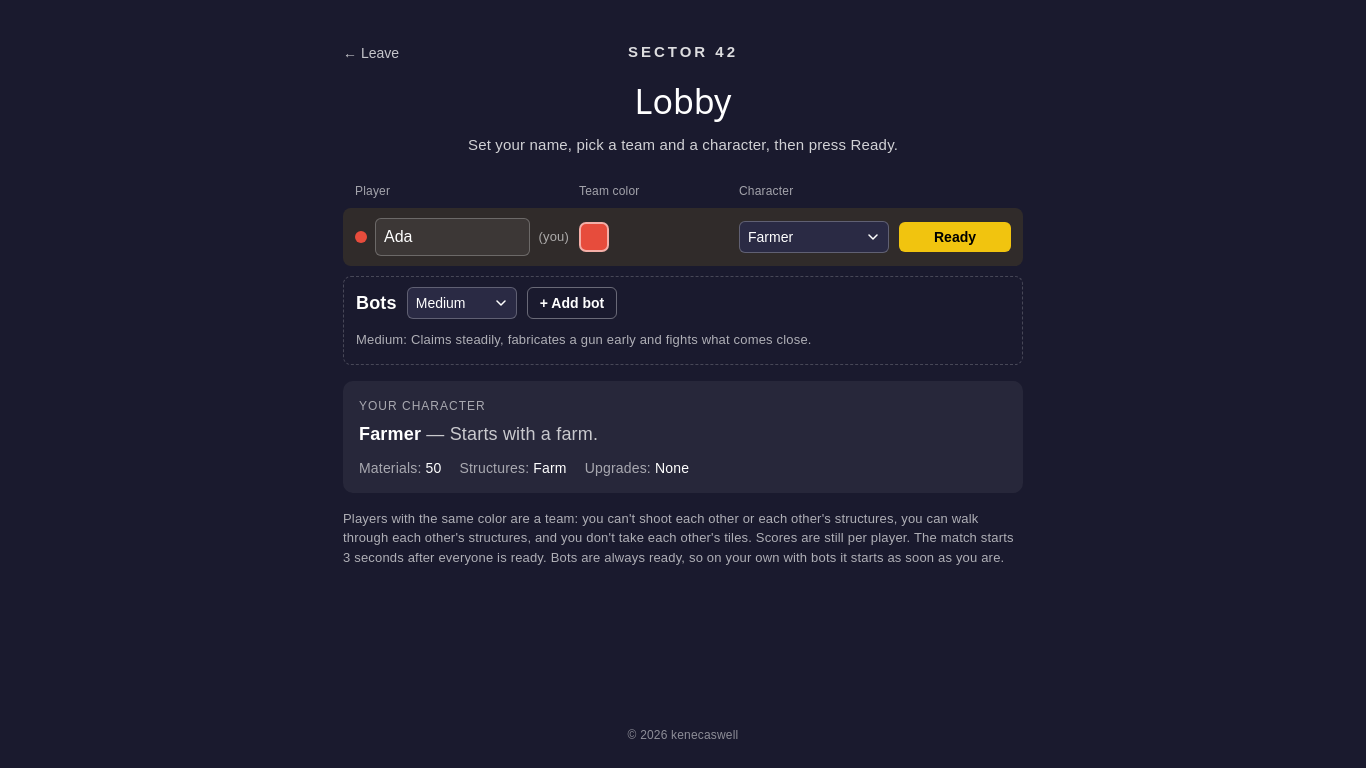
Test: LobbyScreen — your name › flags a too-short name and does not send it
Replace the text in the field named "Your name" with "G" at (453, 237), box left=375, top=218, right=530, bottom=256
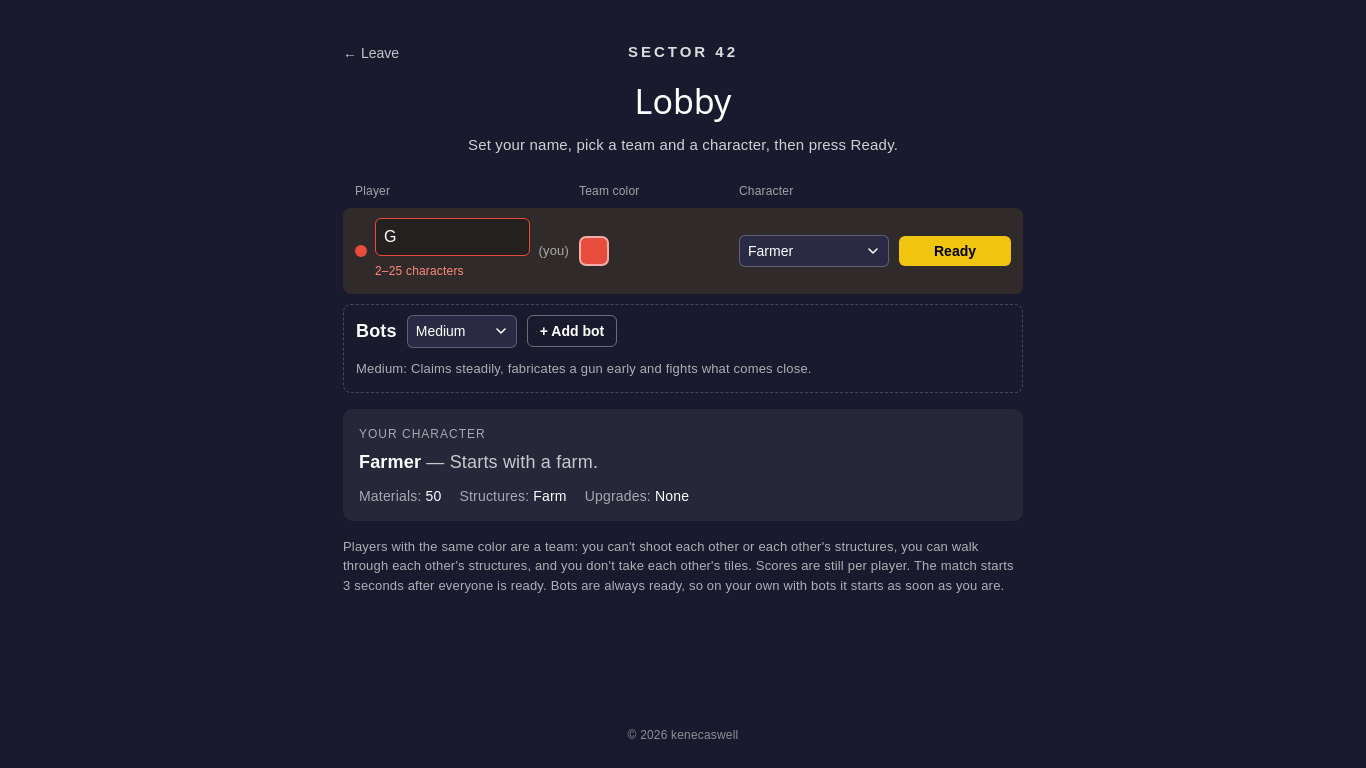
Check: the message reads "2–25 characters", box left=375, top=264, right=464, bottom=278
Press Enter
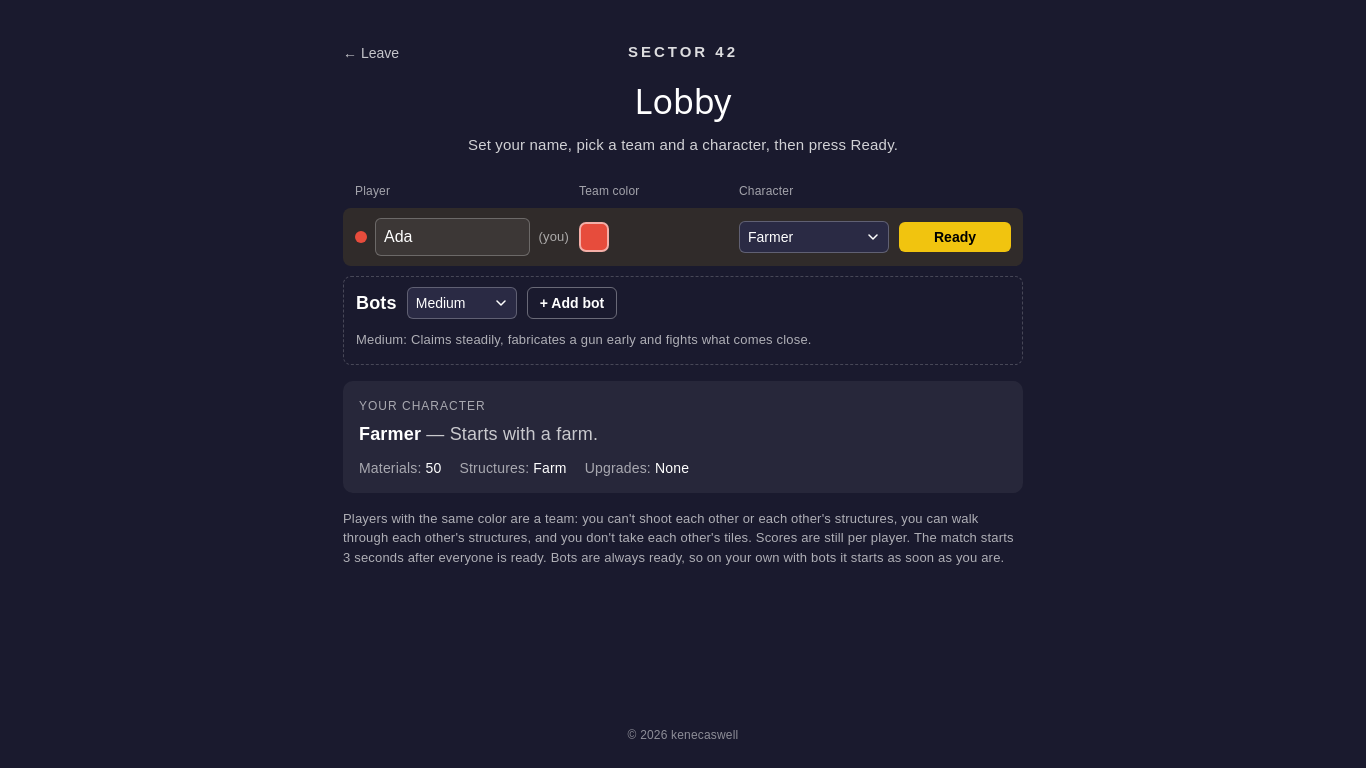
Check: the field named "Your name" holds "Ada", box left=375, top=218, right=530, bottom=256
